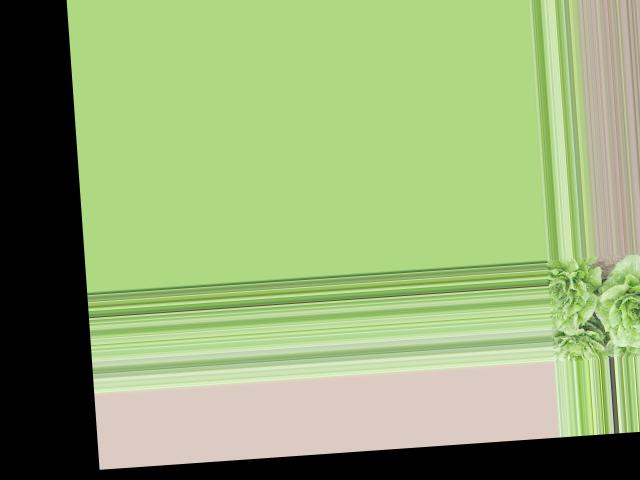lettuce: (545, 258, 599, 336)
